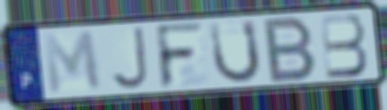B: (263, 14, 320, 85), (318, 11, 371, 81)
F: (153, 20, 207, 91)
J: (108, 25, 150, 92)
M: (40, 28, 105, 97)
U: (208, 17, 264, 86)
